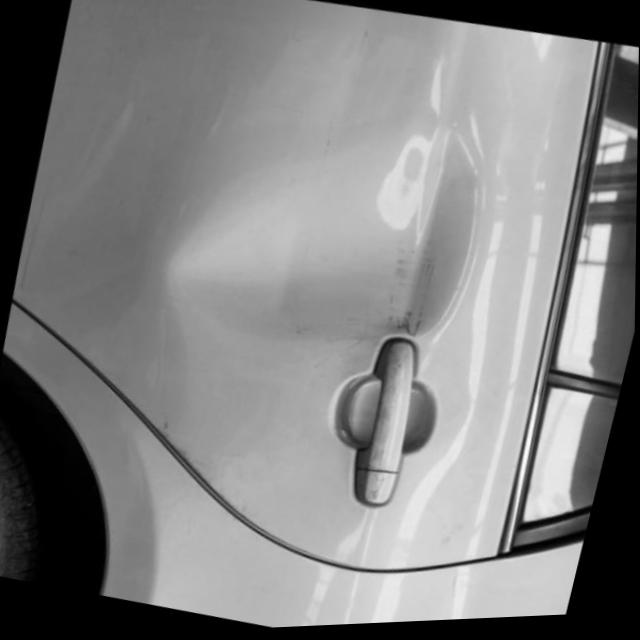Dent: (131, 61, 524, 391)
